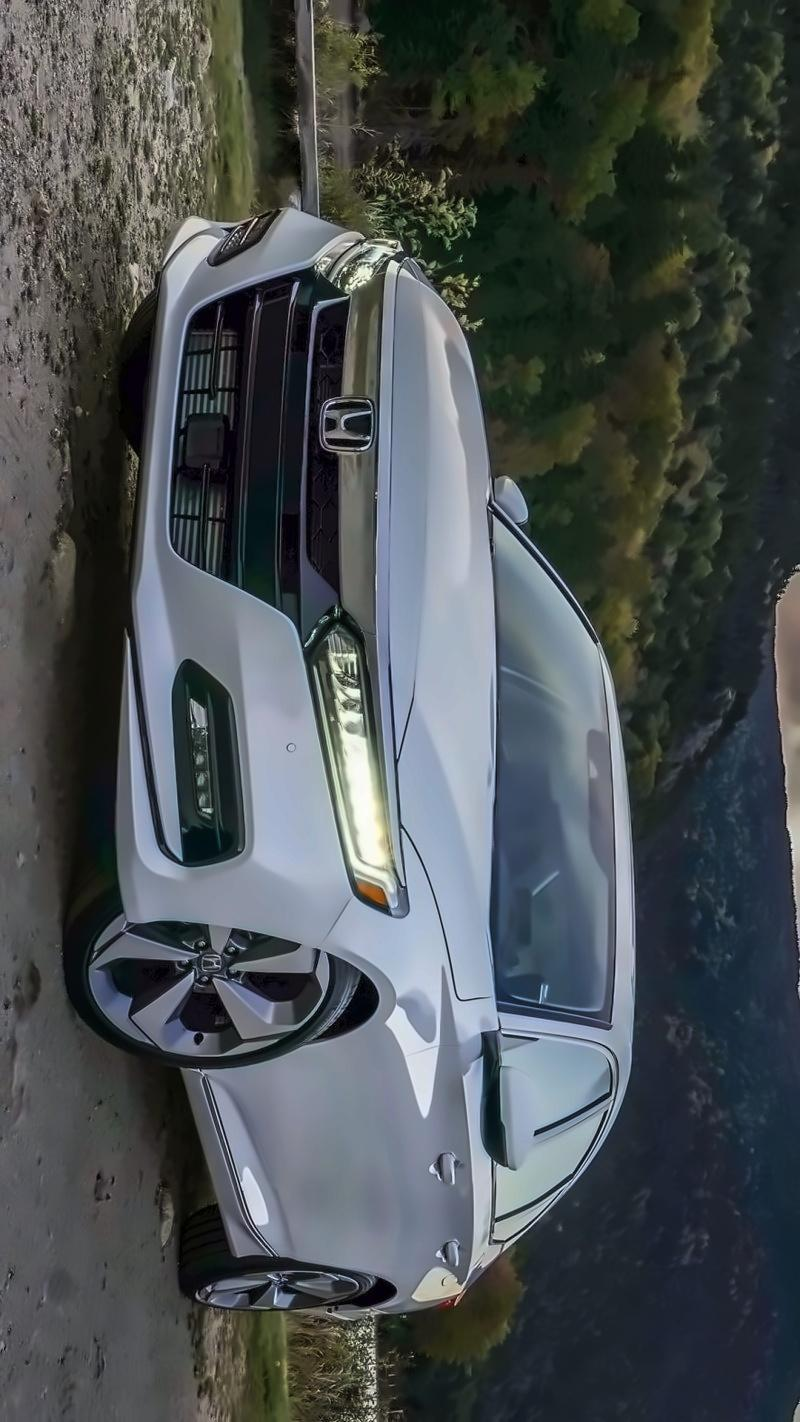Car hood: (375, 259, 494, 997)
Fender - -F-L-: (289, 806, 498, 1107)
Front bumper: (106, 199, 349, 954)
Headlight - -L-: (300, 608, 410, 918)
Headlight - -R-: (309, 227, 401, 292)
Passenger-s door - -F-L-: (189, 1023, 644, 1182)
Passenger-s door - -R-L-: (181, 1089, 648, 1269)
Side bumper - -L-: (161, 1068, 301, 1266)
Side mirror - -L-: (473, 1029, 537, 1173)
Side mirror - -R-: (486, 472, 544, 536)
